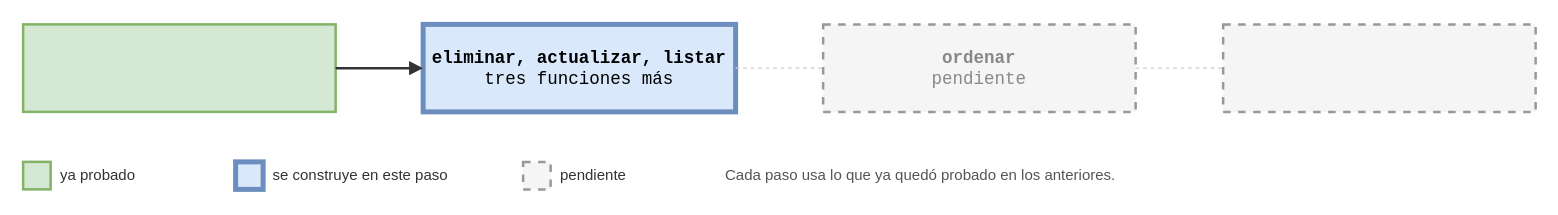
This 1558x215 diagram has some shape labels left out. The centre of each missing label's shape, as x and y in pixels:
buscar y agregar ✓ probado: (178,67)
programa principal pendiente: (1378,67)
